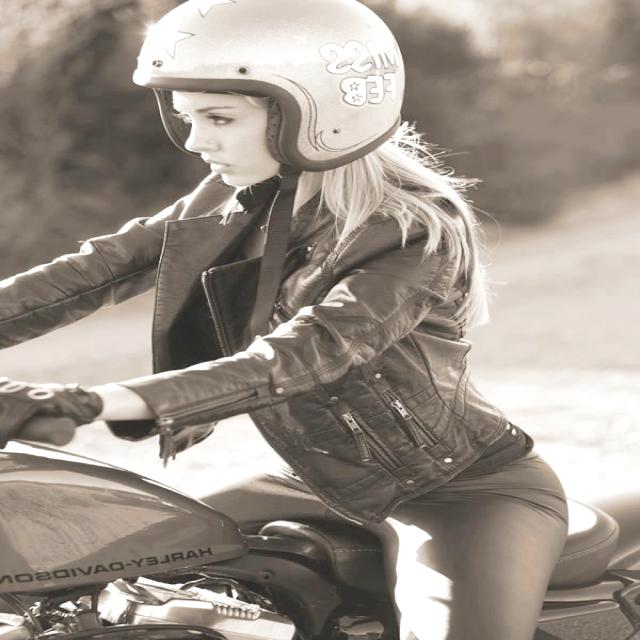helmet: (134, 0, 404, 176)
